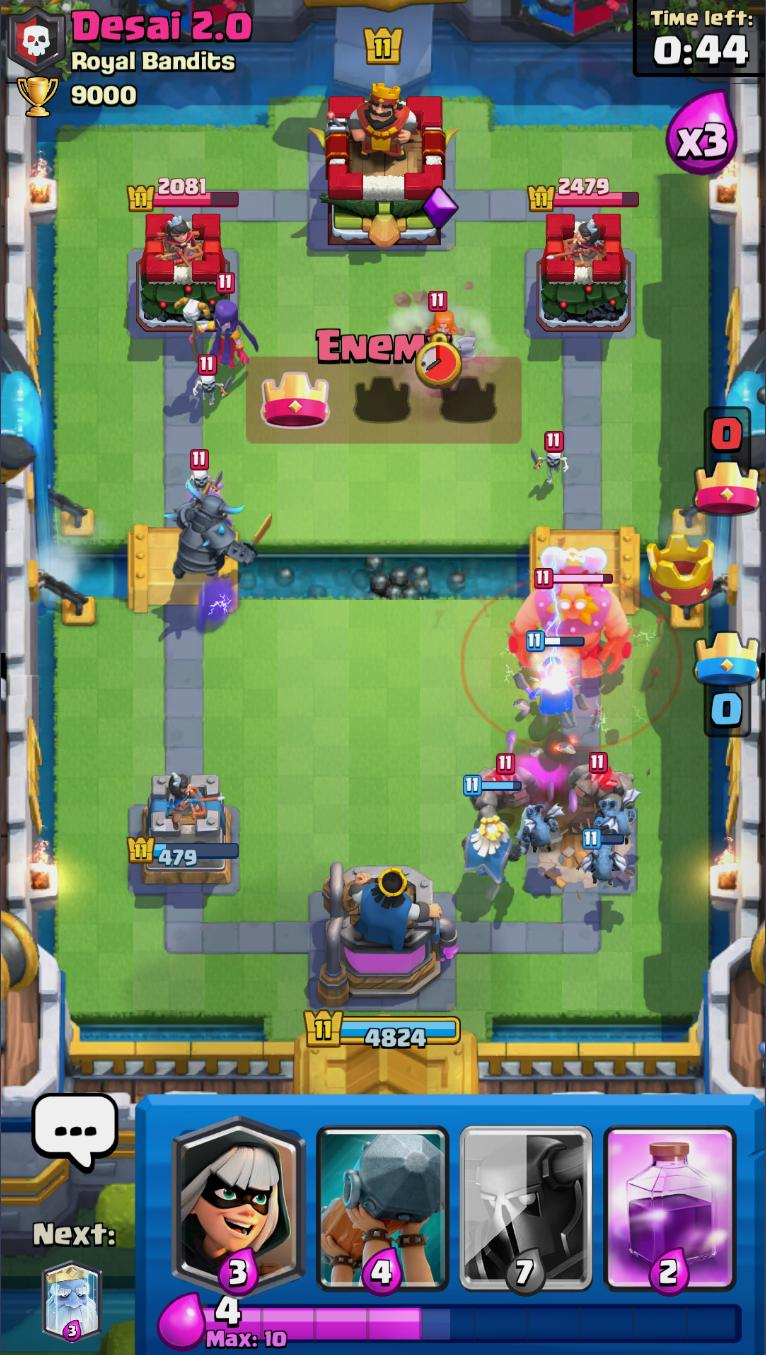BanditDeck: (167, 1095, 310, 1296)
BattleRamDeck: (311, 1095, 455, 1296)
ElectroGiant: (508, 546, 633, 679)
Elixir: (203, 1295, 744, 1350)
EnemyTower: (533, 208, 631, 331), (133, 210, 229, 335)
GolemMini: (464, 752, 537, 821), (567, 751, 636, 817)
KingTower: (308, 82, 456, 248)
MyBandit: (525, 629, 577, 715)
MyElectroSpirit: (196, 575, 235, 627)
MyKingHP: (304, 1008, 461, 1049)
MyKingTower: (319, 856, 458, 1009)
MyMinion: (580, 827, 628, 885), (516, 801, 563, 852), (592, 791, 639, 842)
MyPekka: (165, 479, 274, 581)
MyPrincessTower: (125, 769, 238, 887)
MyPrincessTowerBrocken: (524, 786, 639, 893)
MyPrincessTowerHP: (125, 836, 238, 868)
MyRoyaleGhost: (461, 774, 527, 884)
PekkaDeck: (456, 1094, 598, 1295)
PrincessTower: (555, 213, 612, 264), (148, 214, 204, 264)
RageDeck: (599, 1094, 744, 1296)
RoyaleGhostNext: (41, 1264, 103, 1343)
Skeleton: (191, 354, 234, 409), (530, 430, 570, 483), (185, 451, 224, 496)
TowerPrincessHP: (126, 178, 239, 213), (526, 178, 639, 212)
Valkyrie: (421, 291, 478, 363)
Witch: (176, 273, 258, 371)
